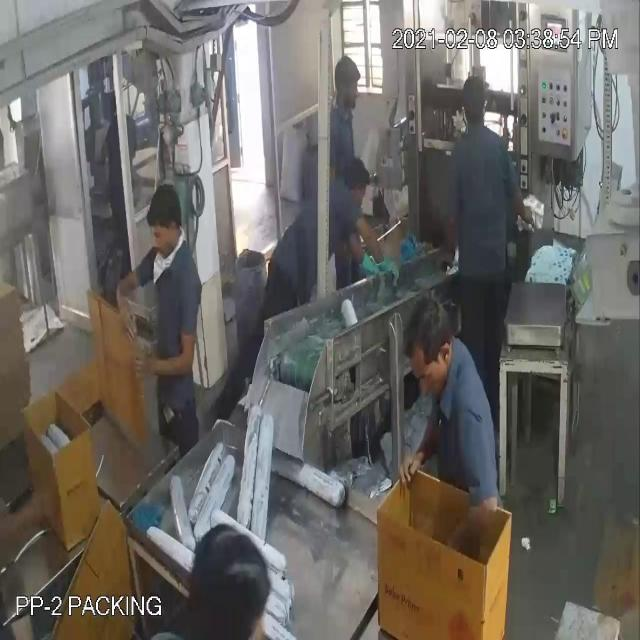No_Gloves: (40, 53, 473, 529)
